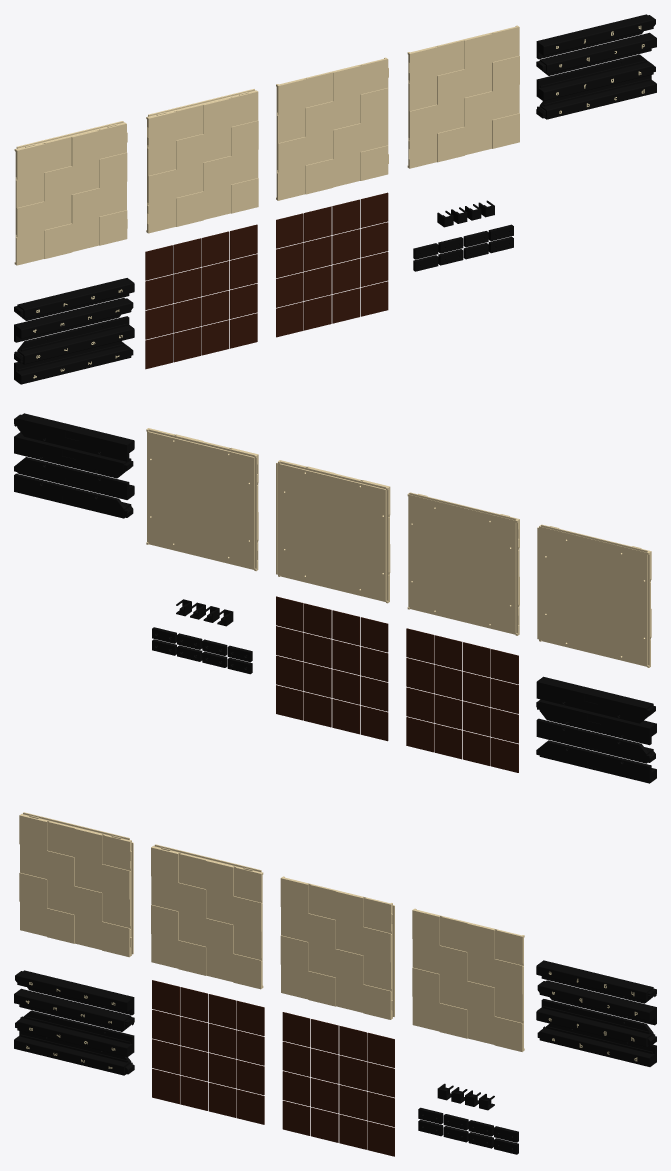
File: .separated_print_kit.step.glb
The picture shows the model from 3 angles, top to bottom: view 1: azimuth 30°, elevation 25°; view 2: azimuth 150°, elevation 25°; view 3: azimuth 330°, elevation 25°; orthographic projection.
Parts seen in each view (by area): view 1: o1.1.1, o1.2.1, o1.3.1, o1.4.1, o1.6.2.1, o1.5.2.1, o1.5.1.1, o1.6.1.1, o1.6.3.1, o1.5.4.1, o1.5.3.1, o1.6.4.1 (+32 smaller); view 2: o1.1.1, o1.3.1, o1.2.1, o1.4.1, o1.5.4.1, o1.6.4.1, o1.6.3.1, o1.5.3.1, o1.6.2.1, o1.5.1.1, o1.5.2.1, o1.6.1.1 (+32 smaller); view 3: o1.1.1, o1.2.1, o1.3.1, o1.4.1, o1.5.2.1, o1.6.2.1, o1.5.1.1, o1.6.1.1, o1.6.4.1, o1.5.3.1, o1.5.4.1, o1.6.3.1 (+32 smaller).
Part boxes in pixels (box(x1,y1,x2,y2)): o1.1.1: box(14, 121, 127, 265); o1.2.1: box(146, 89, 258, 233); o1.3.1: box(276, 57, 388, 200); o1.4.1: box(407, 25, 519, 168); o1.6.2.1: box(14, 316, 134, 364); o1.5.2.1: box(536, 54, 655, 101); o1.5.1.1: box(536, 75, 656, 119); o1.6.1.1: box(14, 341, 133, 384); o1.6.3.1: box(14, 298, 133, 342); o1.5.4.1: box(536, 14, 655, 59); o1.5.3.1: box(536, 32, 656, 75); o1.6.4.1: box(14, 278, 134, 320); o1.1.1: box(537, 524, 651, 667); o1.3.1: box(276, 460, 390, 603); o1.2.1: box(407, 492, 519, 635); o1.4.1: box(146, 428, 258, 571); o1.5.4.1: box(14, 413, 134, 461); o1.6.4.1: box(536, 676, 655, 723); o1.6.3.1: box(536, 699, 656, 745); o1.5.3.1: box(14, 432, 133, 478); o1.6.2.1: box(536, 718, 655, 763); o1.5.1.1: box(14, 473, 133, 518); o1.5.2.1: box(14, 457, 134, 499); o1.6.1.1: box(536, 740, 656, 783); o1.1.1: box(19, 812, 133, 957); o1.2.1: box(151, 844, 263, 989); o1.3.1: box(280, 876, 394, 1019); o1.4.1: box(412, 908, 524, 1051); o1.5.2.1: box(536, 999, 656, 1047); o1.6.2.1: box(15, 1010, 134, 1057); o1.5.1.1: box(537, 1023, 656, 1066); o1.6.1.1: box(14, 1031, 134, 1075); o1.6.4.1: box(15, 970, 134, 1015); o1.5.3.1: box(537, 980, 656, 1025); o1.5.4.1: box(536, 960, 656, 1003); o1.6.3.1: box(14, 988, 134, 1031).
Size of the model in its own units: 1.39 by 0.5292 by 0.0276.
